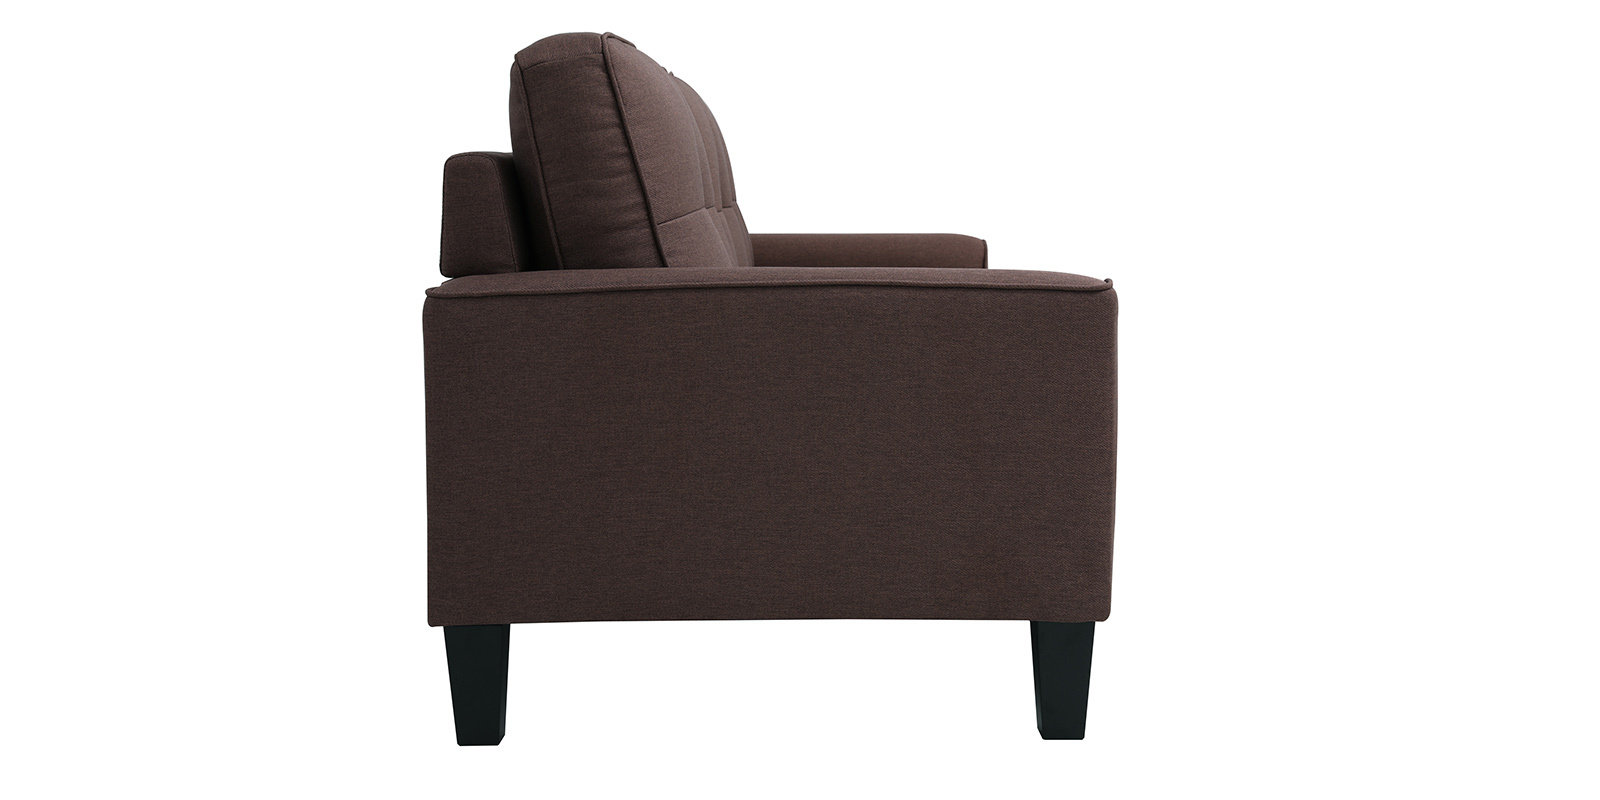Alice Three Seater Sofa in Brown Colour by Zofa: (398, 32, 1138, 773)
